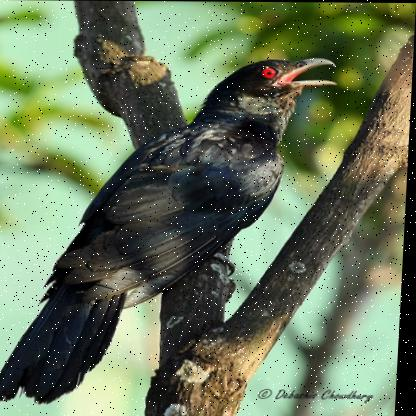Burung: (0, 55, 338, 406)
